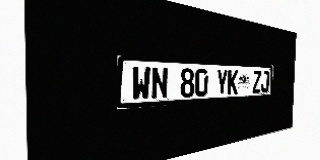0: (195, 68, 208, 97)
8: (180, 68, 195, 98)
J: (261, 71, 269, 93)
K: (227, 69, 238, 95)
N: (151, 67, 168, 100)
W: (131, 66, 151, 101)
Y: (216, 69, 228, 96)
Z: (252, 70, 261, 93)
